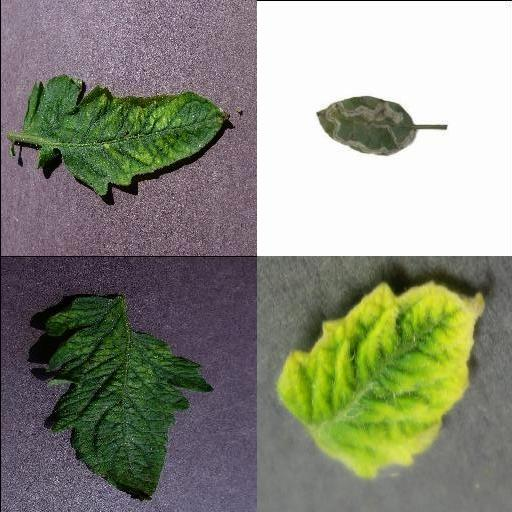Leaf Miner: (316, 95, 417, 153)
Mosaic Virus: (41, 294, 215, 504), (21, 74, 231, 196)
Yellow Leaf Curl Virus: (278, 281, 484, 480)
